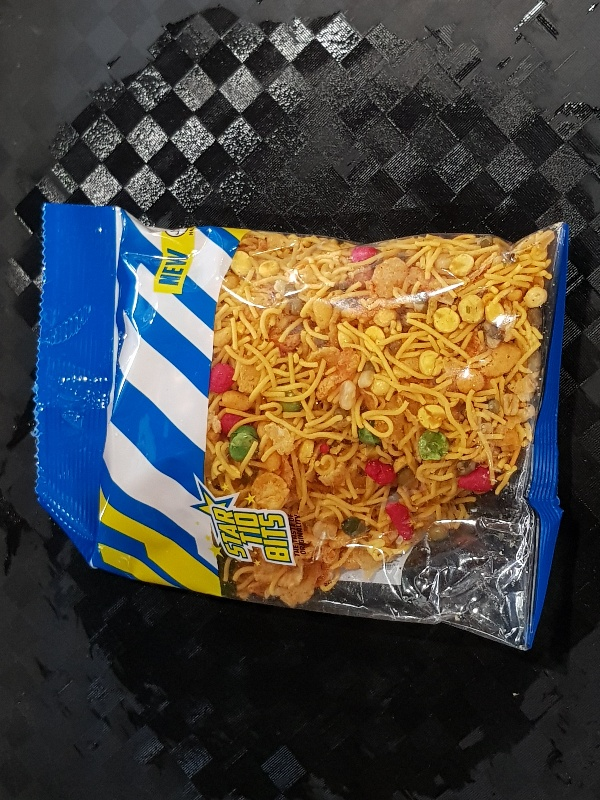Star Tidbits Mixer: (31, 201, 570, 655)
